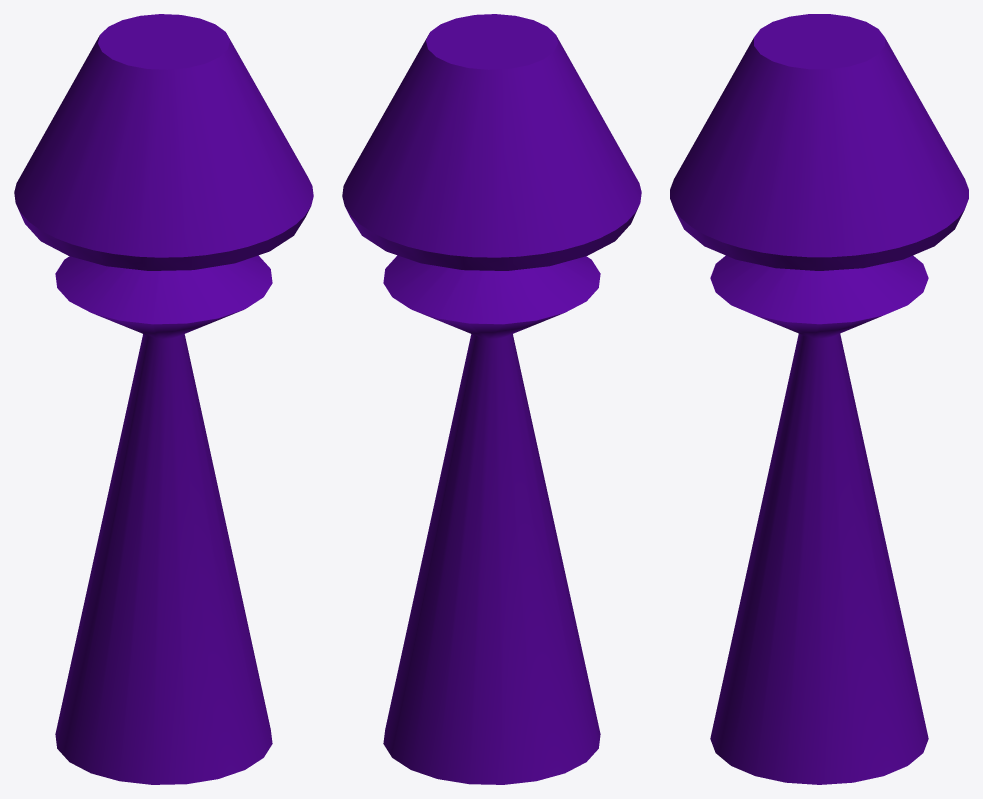
File: Lamp.fbx
3 renders of one model, left to right at view 1: azimuth 30°, elevation 25°; view 2: azimuth 150°, elevation 25°; view 3: azimuth 270°, elevation 25°, orthographic.
Visible parts, largest first — view 1: pCylinder3; view 2: pCylinder3; view 3: pCylinder3.
Part boxes in pixels (bbox=[...]): pCylinder3: bbox=[14, 14, 313, 784]; pCylinder3: bbox=[342, 14, 641, 784]; pCylinder3: bbox=[670, 14, 968, 784].
Size of the model in its own units: 2.43 by 6.27 by 2.43.
